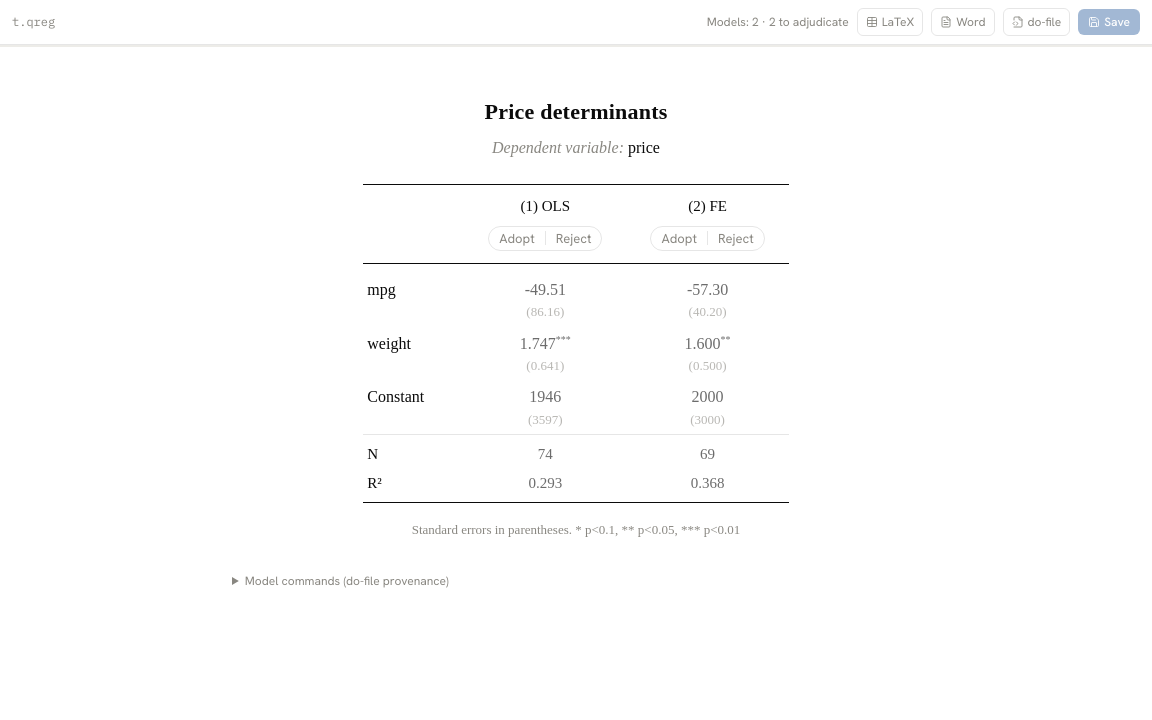
QRegWorkbench › saves the adjudicated document and clears dirty
Expected: the button "Save" is disabled, [1078,9,1140,35]
Click the 1st button "Adopt" at (517, 238), box [489,227,545,250]
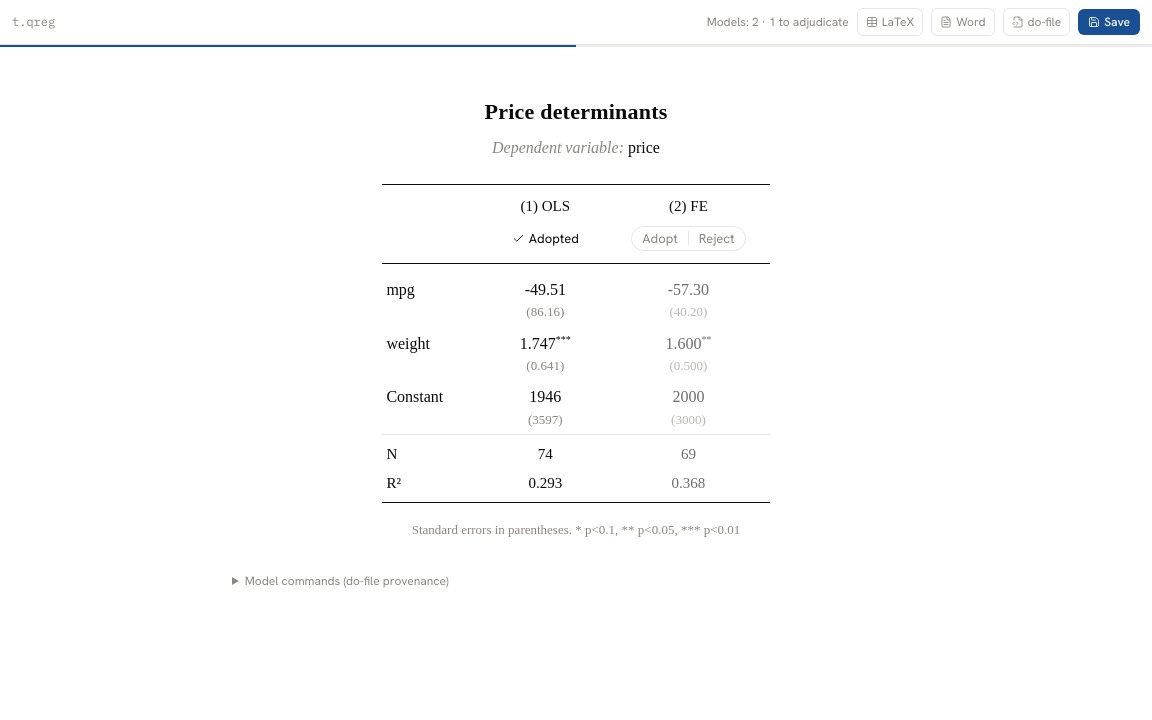
Now the button "Save" is enabled
Click the button "Save" at (1109, 22), box [1078,9,1140,35]
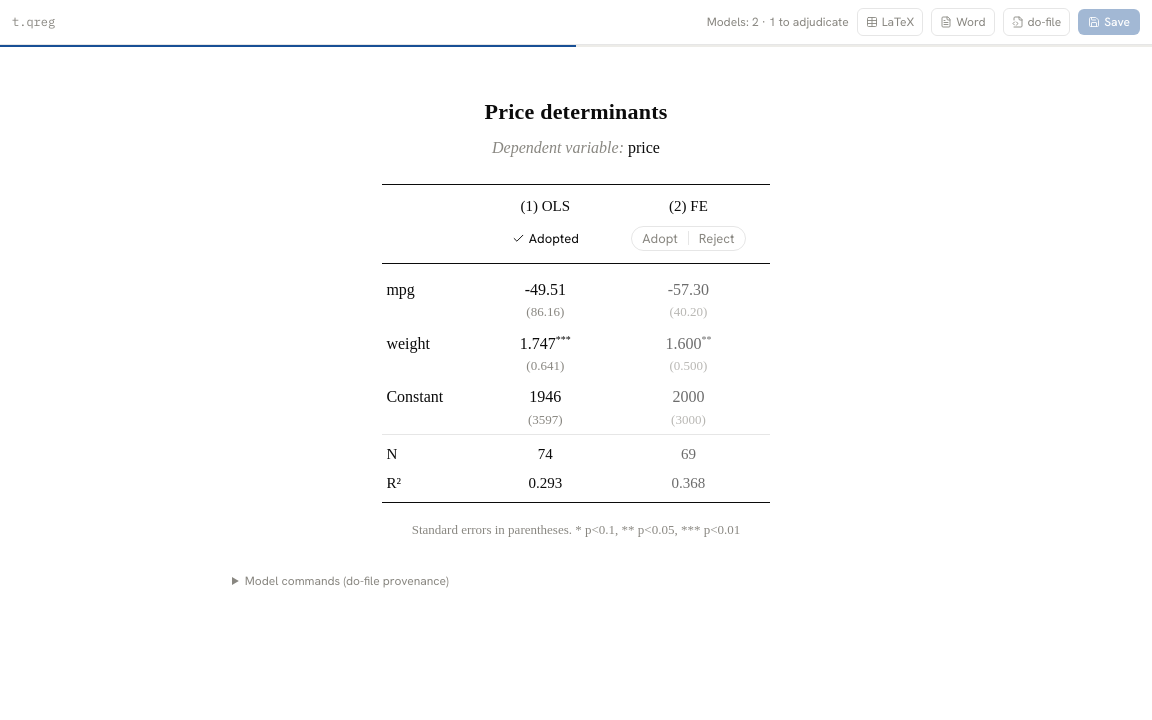
Now the button "Save" is disabled, box [1078,9,1140,35]
